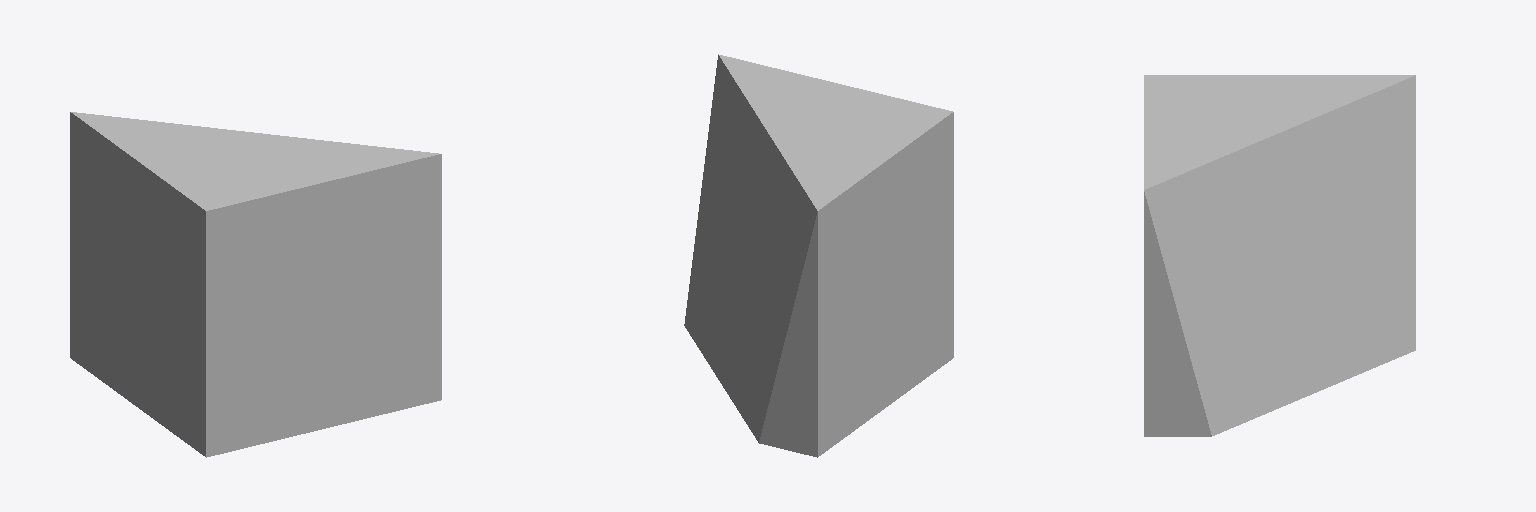
The model's file is bevelled_corner_c4.obj.
3 renders of one model, left to right at view 1: azimuth 30°, elevation 25°; view 2: azimuth 150°, elevation 25°; view 3: azimuth 270°, elevation 25°, orthographic.
Visible parts, largest first — view 1: bevelledcornerc4_face0-texture:1_Bevelled_Corner_C4; view 2: bevelledcornerc4_face0-texture:1_Bevelled_Corner_C4, bevelledcornerc4_face1-texture:2_Bevelled_Corner_C4.001; view 3: bevelledcornerc4_face1-texture:2_Bevelled_Corner_C4.001, bevelledcornerc4_face0-texture:1_Bevelled_Corner_C4.
Part boxes in pixels (x1,y1,x2,y2): bevelledcornerc4_face0-texture:1_Bevelled_Corner_C4: (70,112,441,457); bevelledcornerc4_face0-texture:1_Bevelled_Corner_C4: (718,54,953,457); bevelledcornerc4_face1-texture:2_Bevelled_Corner_C4.001: (684,55,817,442); bevelledcornerc4_face1-texture:2_Bevelled_Corner_C4.001: (1144,75,1415,435); bevelledcornerc4_face0-texture:1_Bevelled_Corner_C4: (1144,75,1414,436).
Bounding box in the file's own units: 1 × 1 × 1.